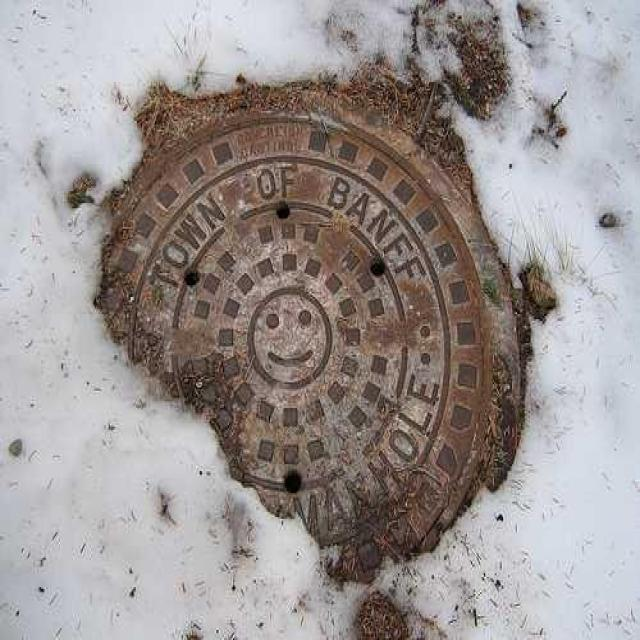manhole: (99, 112, 521, 579)
